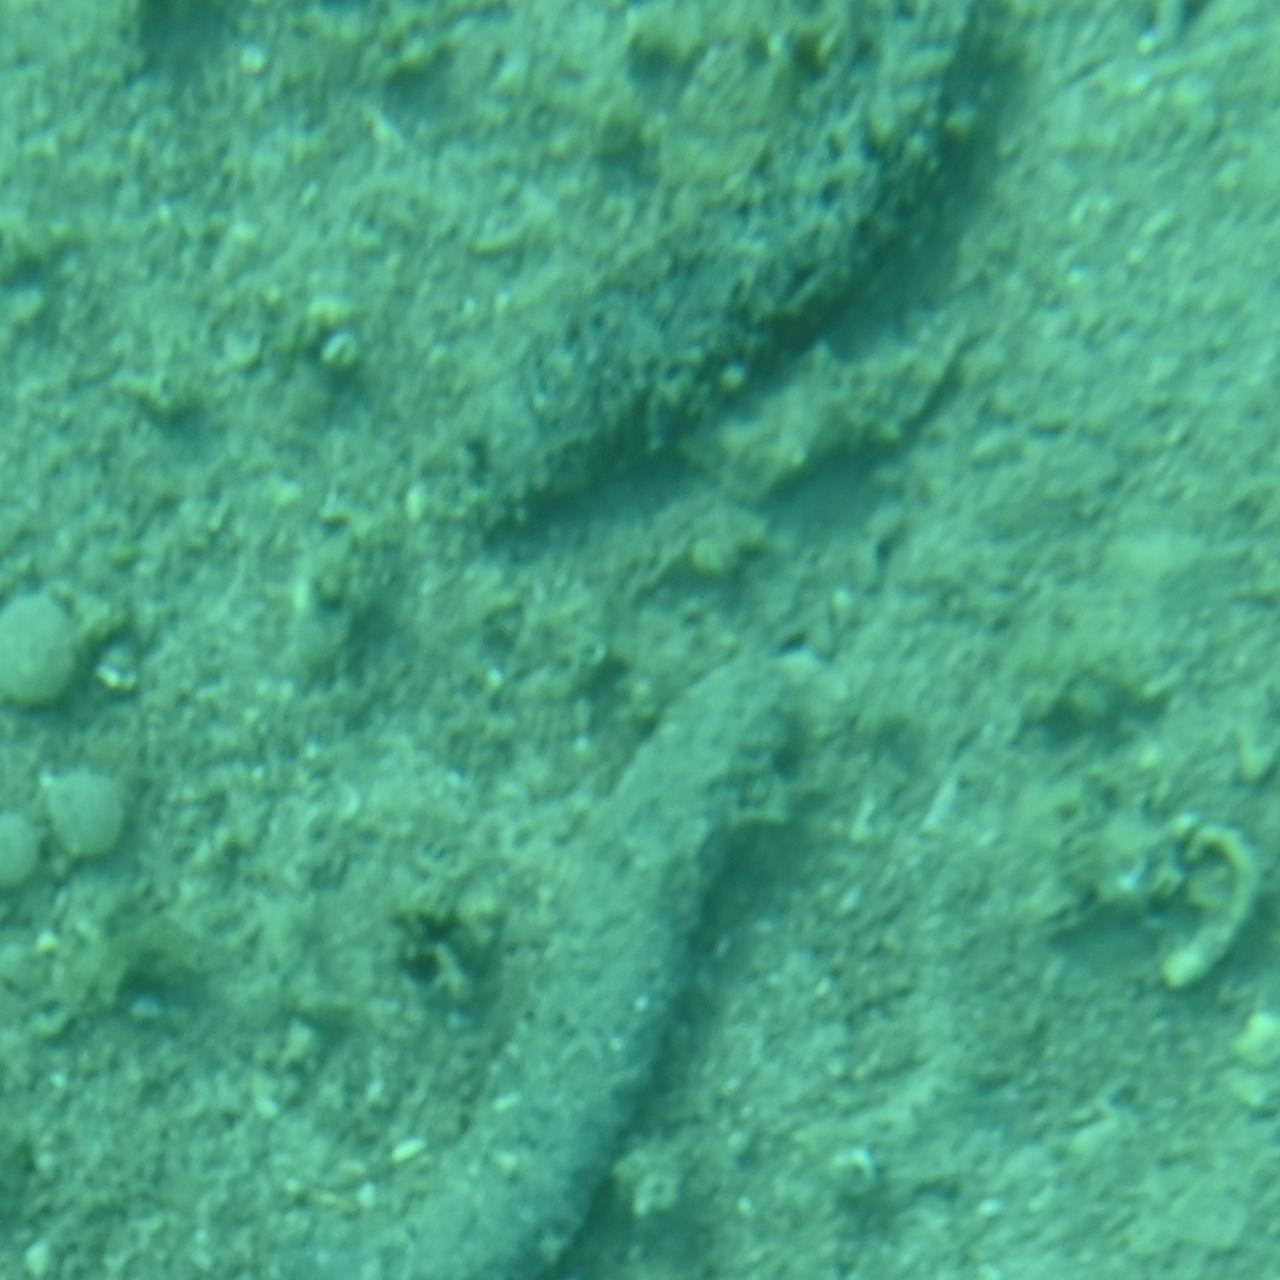Holothuria tubulosa: (267, 620, 829, 1280), (444, 0, 1020, 583)
